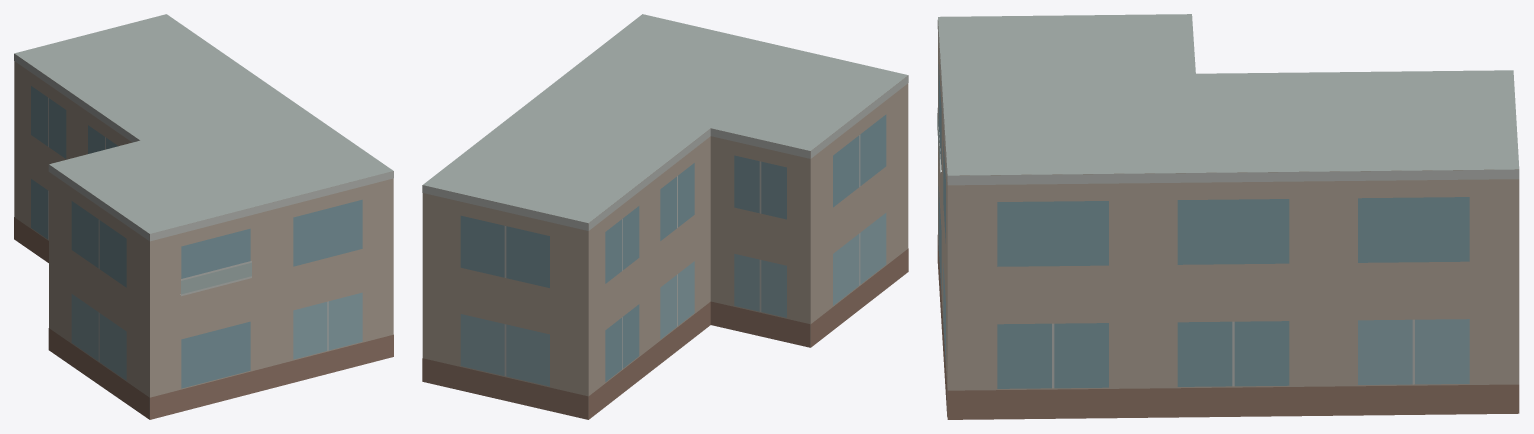
Rendered from survey-upis-32922582.glb.
3 views of the same model, side by side, from view 1: azimuth 30°, elevation 25°; view 2: azimuth 150°, elevation 25°; view 3: azimuth 270°, elevation 25° (orthographic). The views are drawn at different scales.
Parts seen in each view (by area): view 1: survey-upis-32922582.tmp; view 2: survey-upis-32922582.tmp; view 3: survey-upis-32922582.tmp.
Boxes of the visible parts, x1,y1,x2,y2 form: survey-upis-32922582.tmp: [14, 14, 393, 419]; survey-upis-32922582.tmp: [422, 14, 908, 419]; survey-upis-32922582.tmp: [937, 14, 1519, 419].
Bounding box in the file's own units: 8.66 × 6.1 × 13.18.
